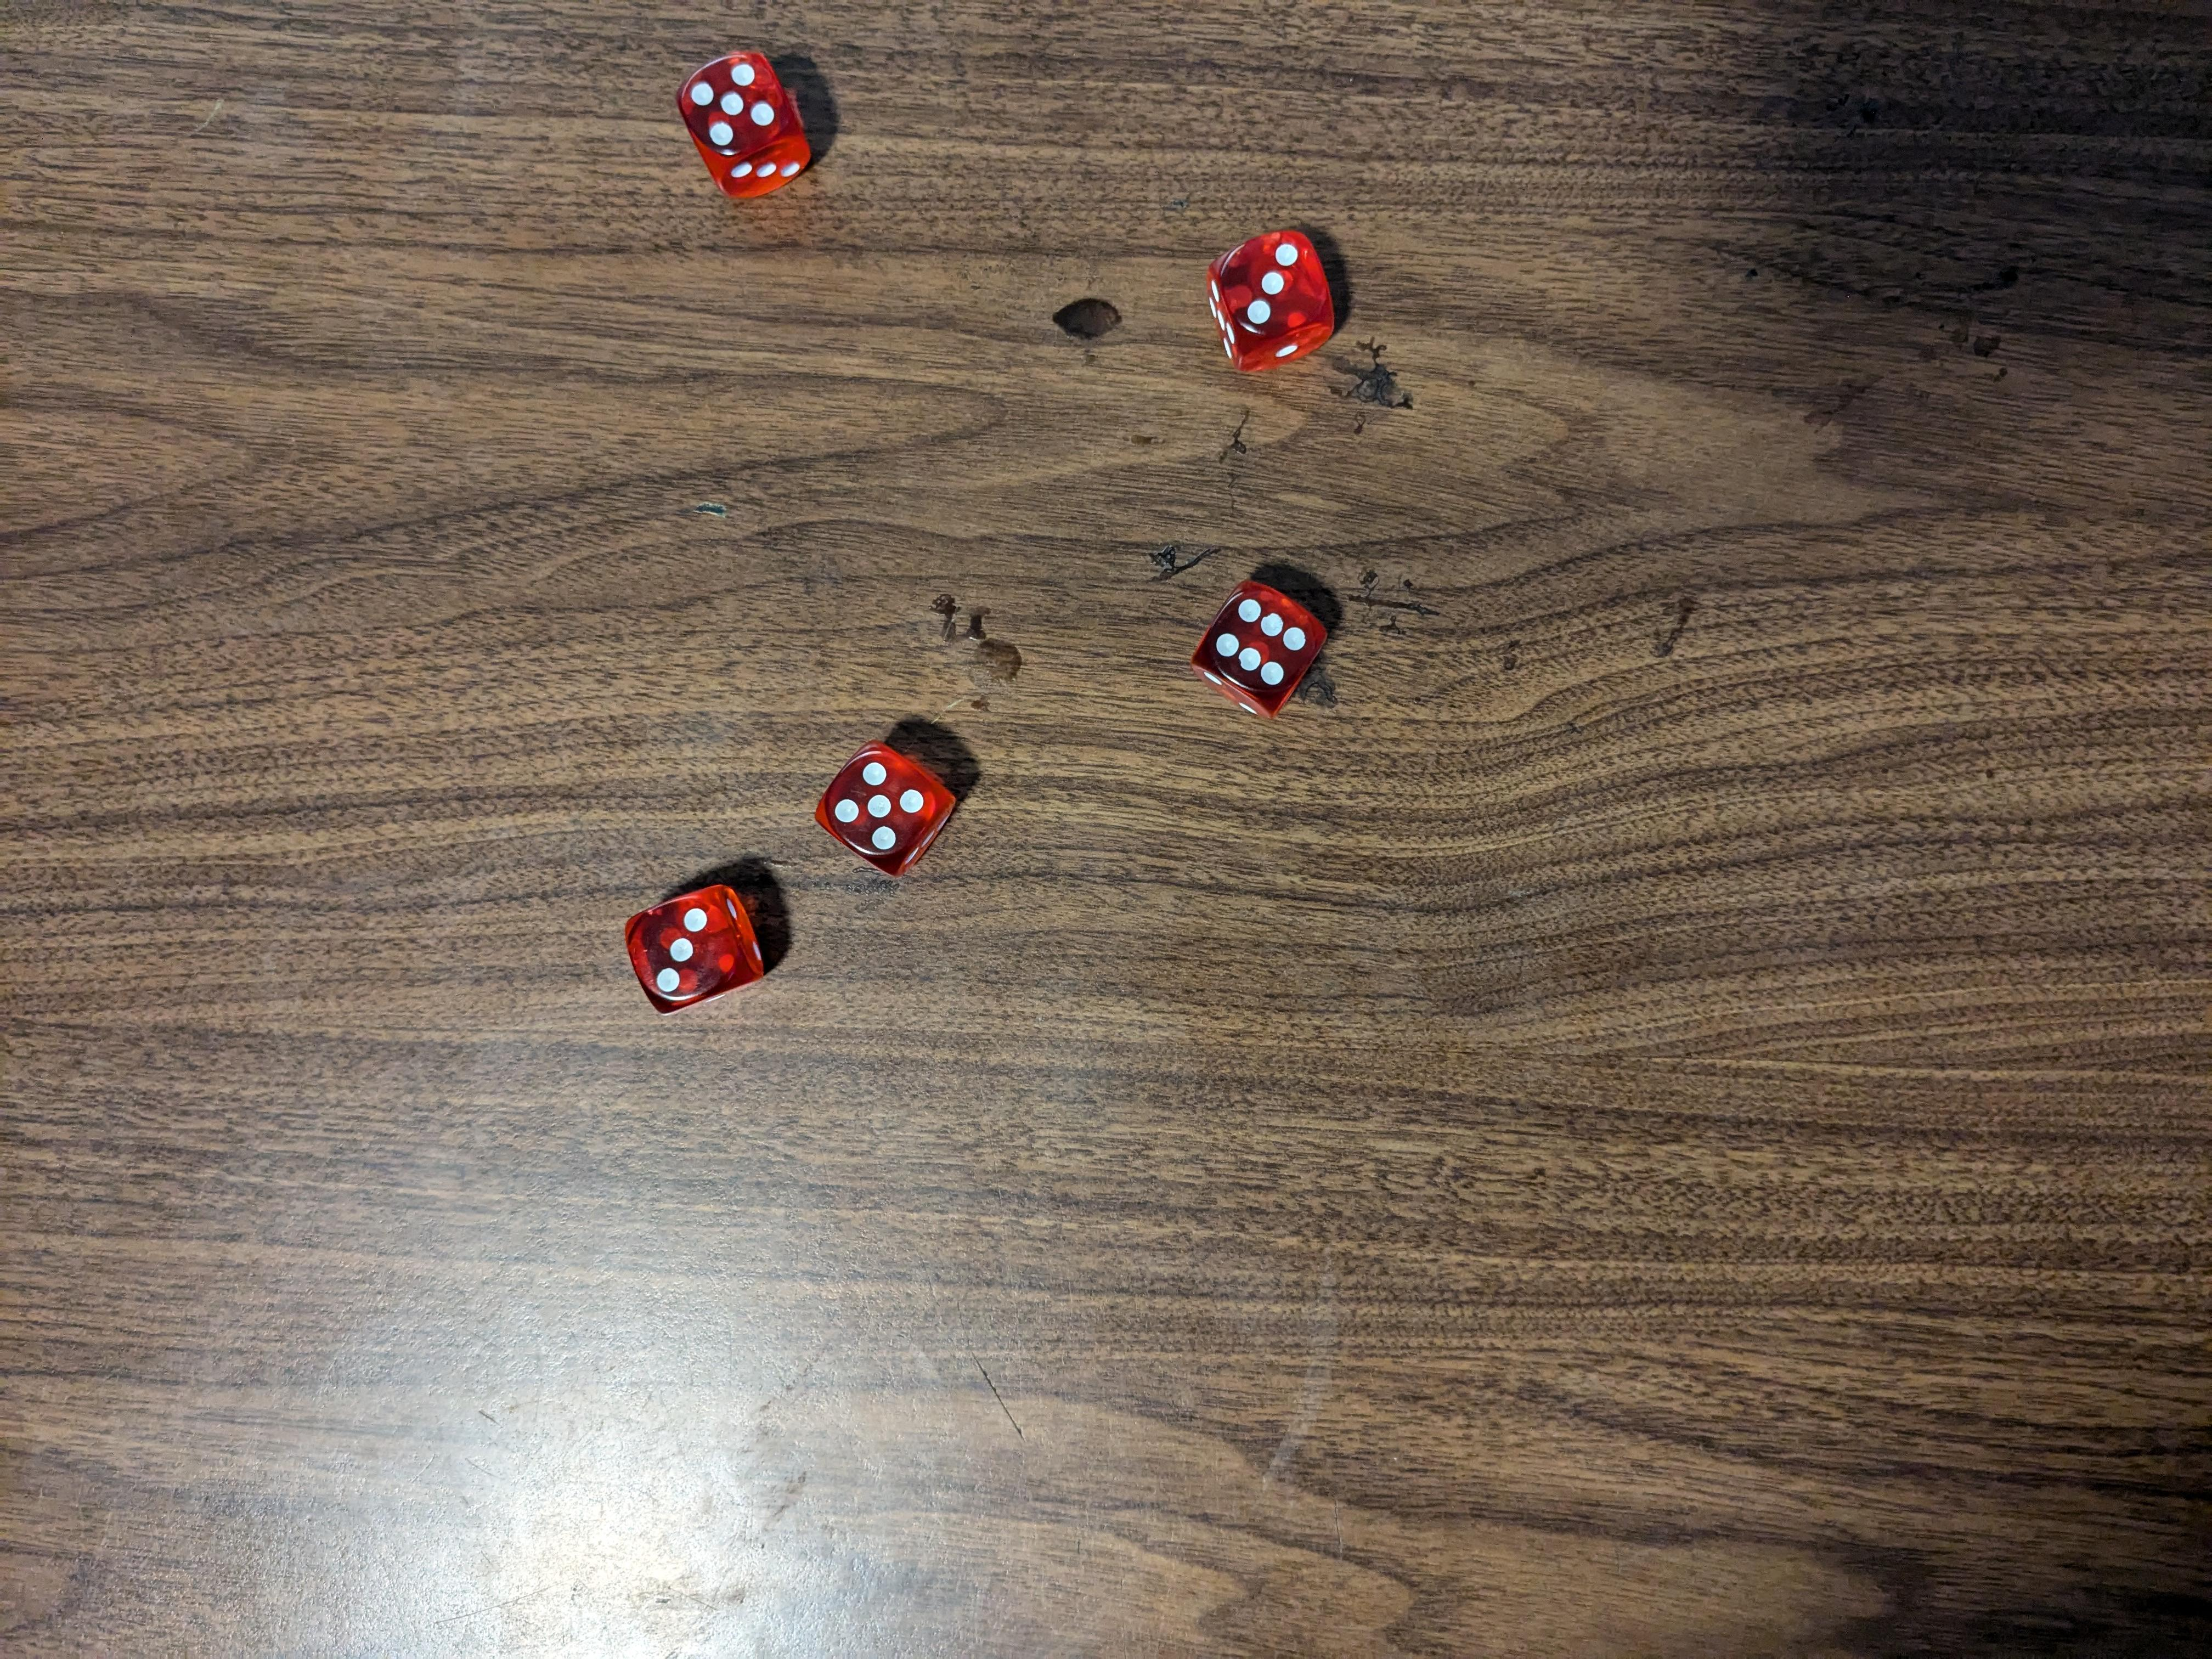five: (671, 51, 827, 195), (806, 735, 960, 878)
six: (1197, 577, 1332, 716)
three: (624, 870, 766, 1011), (1207, 218, 1341, 368)
